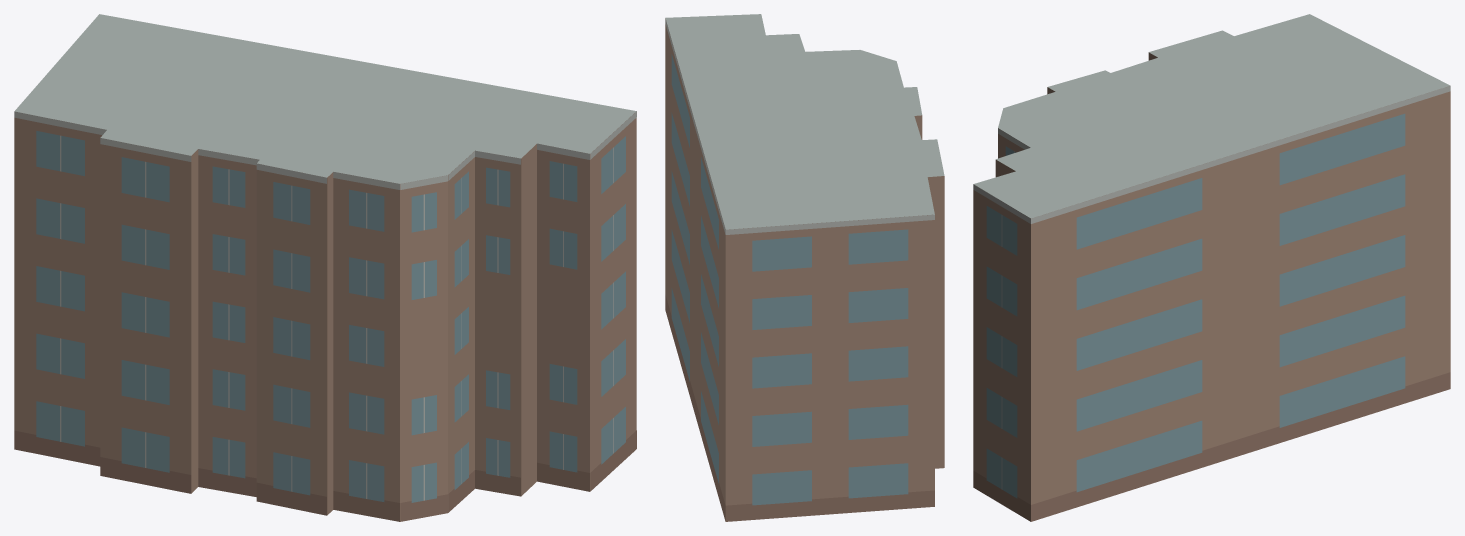
Rendered from survey-upis-32823390.glb.
The picture shows the model from 3 angles, left to right: view 1: azimuth 30°, elevation 25°; view 2: azimuth 150°, elevation 25°; view 3: azimuth 270°, elevation 25°; orthographic projection. The views are drawn at different scales.
Visible parts, largest first — view 1: survey-upis-32823390.tmp; view 2: survey-upis-32823390.tmp; view 3: survey-upis-32823390.tmp.
Boxes of the visible parts, left/top/right/bottom form: survey-upis-32823390.tmp: left=14, top=14, right=636, bottom=521; survey-upis-32823390.tmp: left=665, top=14, right=944, bottom=521; survey-upis-32823390.tmp: left=973, top=14, right=1450, bottom=521.
Size of the model in its own units: 19.1 by 13.2 by 18.84.
